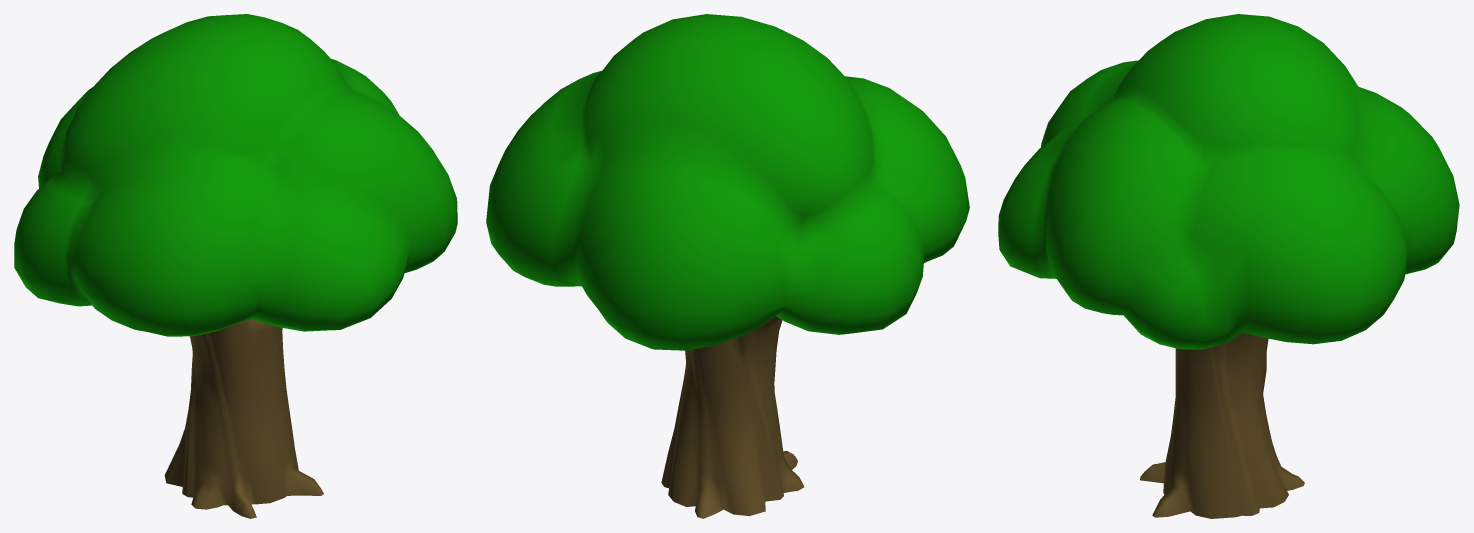
The model's file is Tree1.fbx.
The picture shows the model from 3 angles, left to right: view 1: azimuth 30°, elevation 25°; view 2: azimuth 150°, elevation 25°; view 3: azimuth 270°, elevation 25°; orthographic projection. The views are drawn at different scales.
Parts seen in each view (by area): view 1: TRUNK_LP; view 2: TRUNK_LP; view 3: TRUNK_LP.
Part boxes in pixels (x1=…): TRUNK_LP: x1=14, y1=14, x2=457, y2=518; TRUNK_LP: x1=486, y1=14, x2=969, y2=518; TRUNK_LP: x1=998, y1=14, x2=1459, y2=518.
Size of the model in its own units: 1127 by 1242 by 1096.
